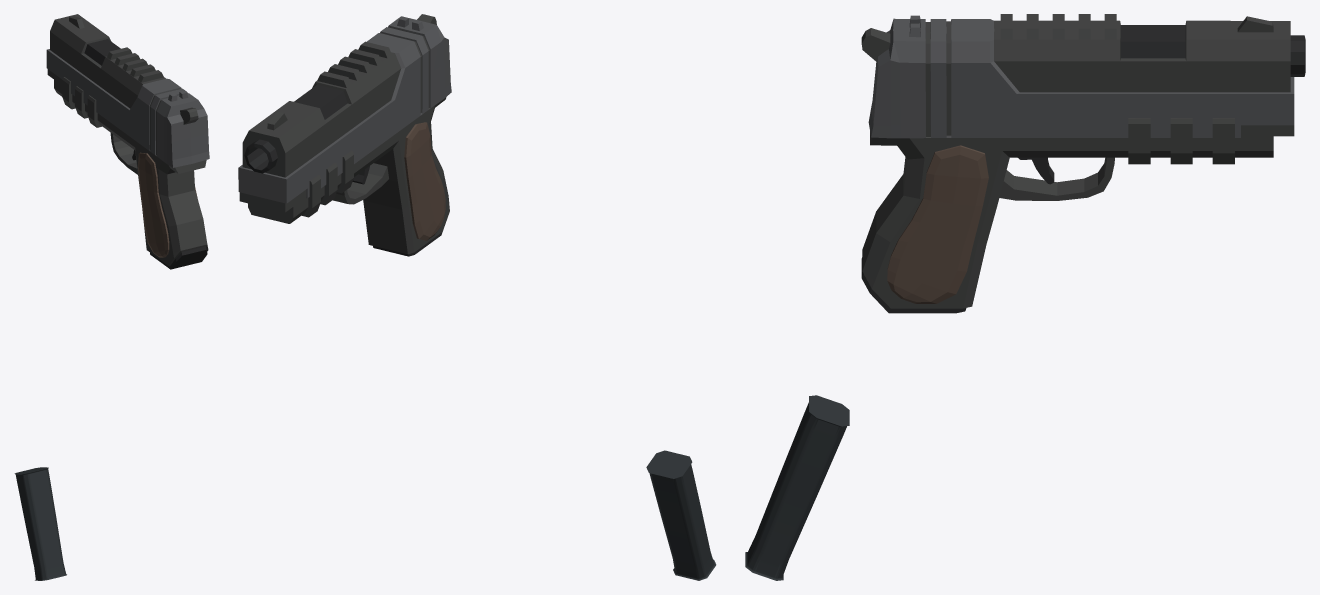
File: m1911_reloadable.glb
3 views of the same model, side by side, from view 1: azimuth 30°, elevation 25°; view 2: azimuth 150°, elevation 25°; view 3: azimuth 270°, elevation 25° (orthographic). The views are drawn at different scales.
Visible parts, largest first — view 1: ChargingHandleGeometry, WeaponBodyGeometry, SpareMagazineGeometry; view 2: ChargingHandleGeometry, WeaponBodyGeometry, SpareMagazineGeometry; view 3: ChargingHandleGeometry, WeaponBodyGeometry, SpareMagazineGeometry.
Part boxes in pixels (box(x1,y1,x2,y2)): ChargingHandleGeometry: box(46, 14, 209, 167); WeaponBodyGeometry: box(54, 77, 208, 269); SpareMagazineGeometry: box(14, 467, 66, 580); ChargingHandleGeometry: box(238, 16, 451, 212); WeaponBodyGeometry: box(244, 14, 449, 256); SpareMagazineGeometry: box(646, 450, 716, 580); ChargingHandleGeometry: box(868, 14, 1294, 138); WeaponBodyGeometry: box(861, 28, 1305, 313); SpareMagazineGeometry: box(745, 395, 849, 580).
Size of the model in its own units: 0.3598 by 0.691 by 0.5049.
